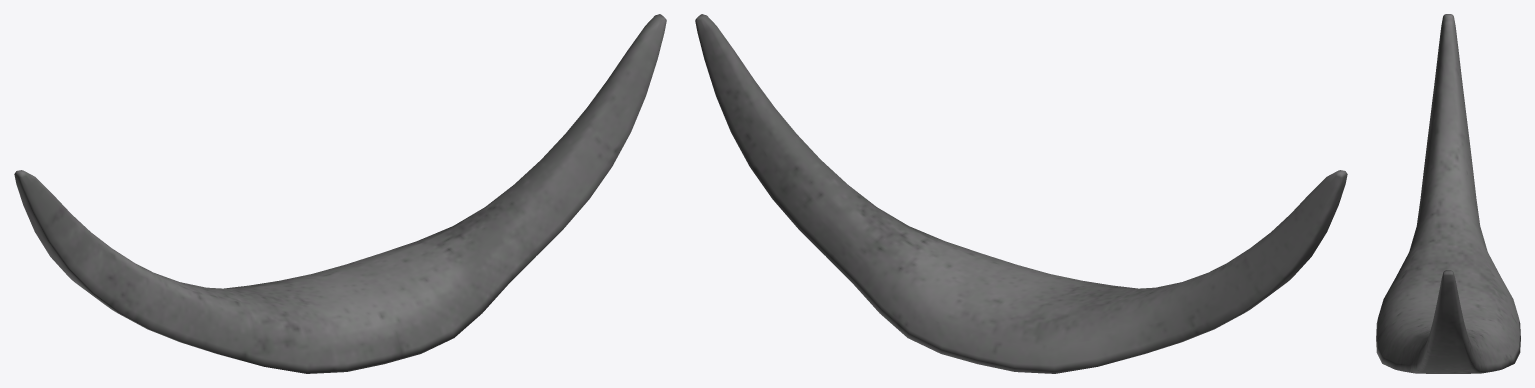
The model's file is wm_pelagir_sword_a01_guard.fbx.
3 views of the same model, side by side, from view 1: azimuth 30°, elevation 25°; view 2: azimuth 150°, elevation 25°; view 3: azimuth 270°, elevation 25° (orthographic). The views are drawn at different scales.
Visible parts, largest first — view 1: wm_pelagir_sword_a01_guard; view 2: wm_pelagir_sword_a01_guard; view 3: wm_pelagir_sword_a01_guard.
Boxes of the visible parts, x1,y1,x2,y2 form: wm_pelagir_sword_a01_guard: (14,14,666,373); wm_pelagir_sword_a01_guard: (695,14,1347,373); wm_pelagir_sword_a01_guard: (1376,14,1520,373).
Bounding box in the file's own units: 0.1929 × 0.0455 × 0.0684.
1 material, 1 textured.
